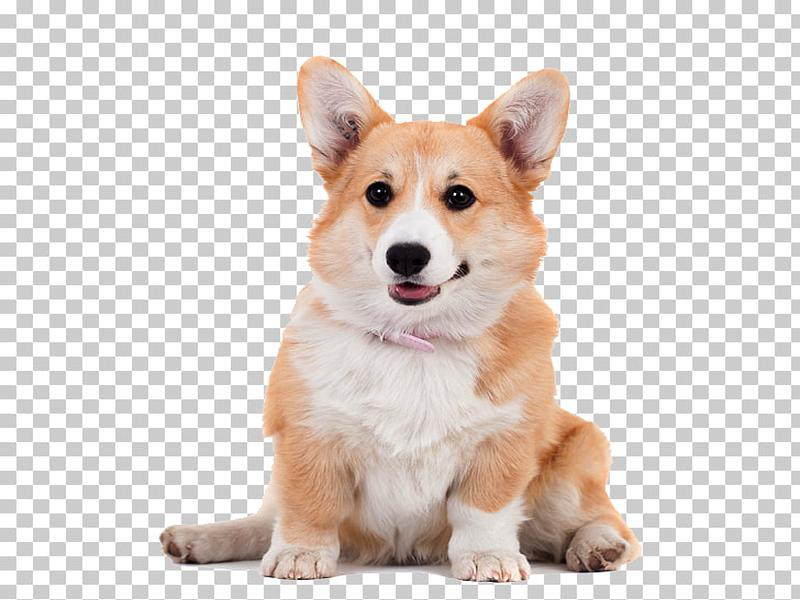corgi: (294, 56, 575, 313)
